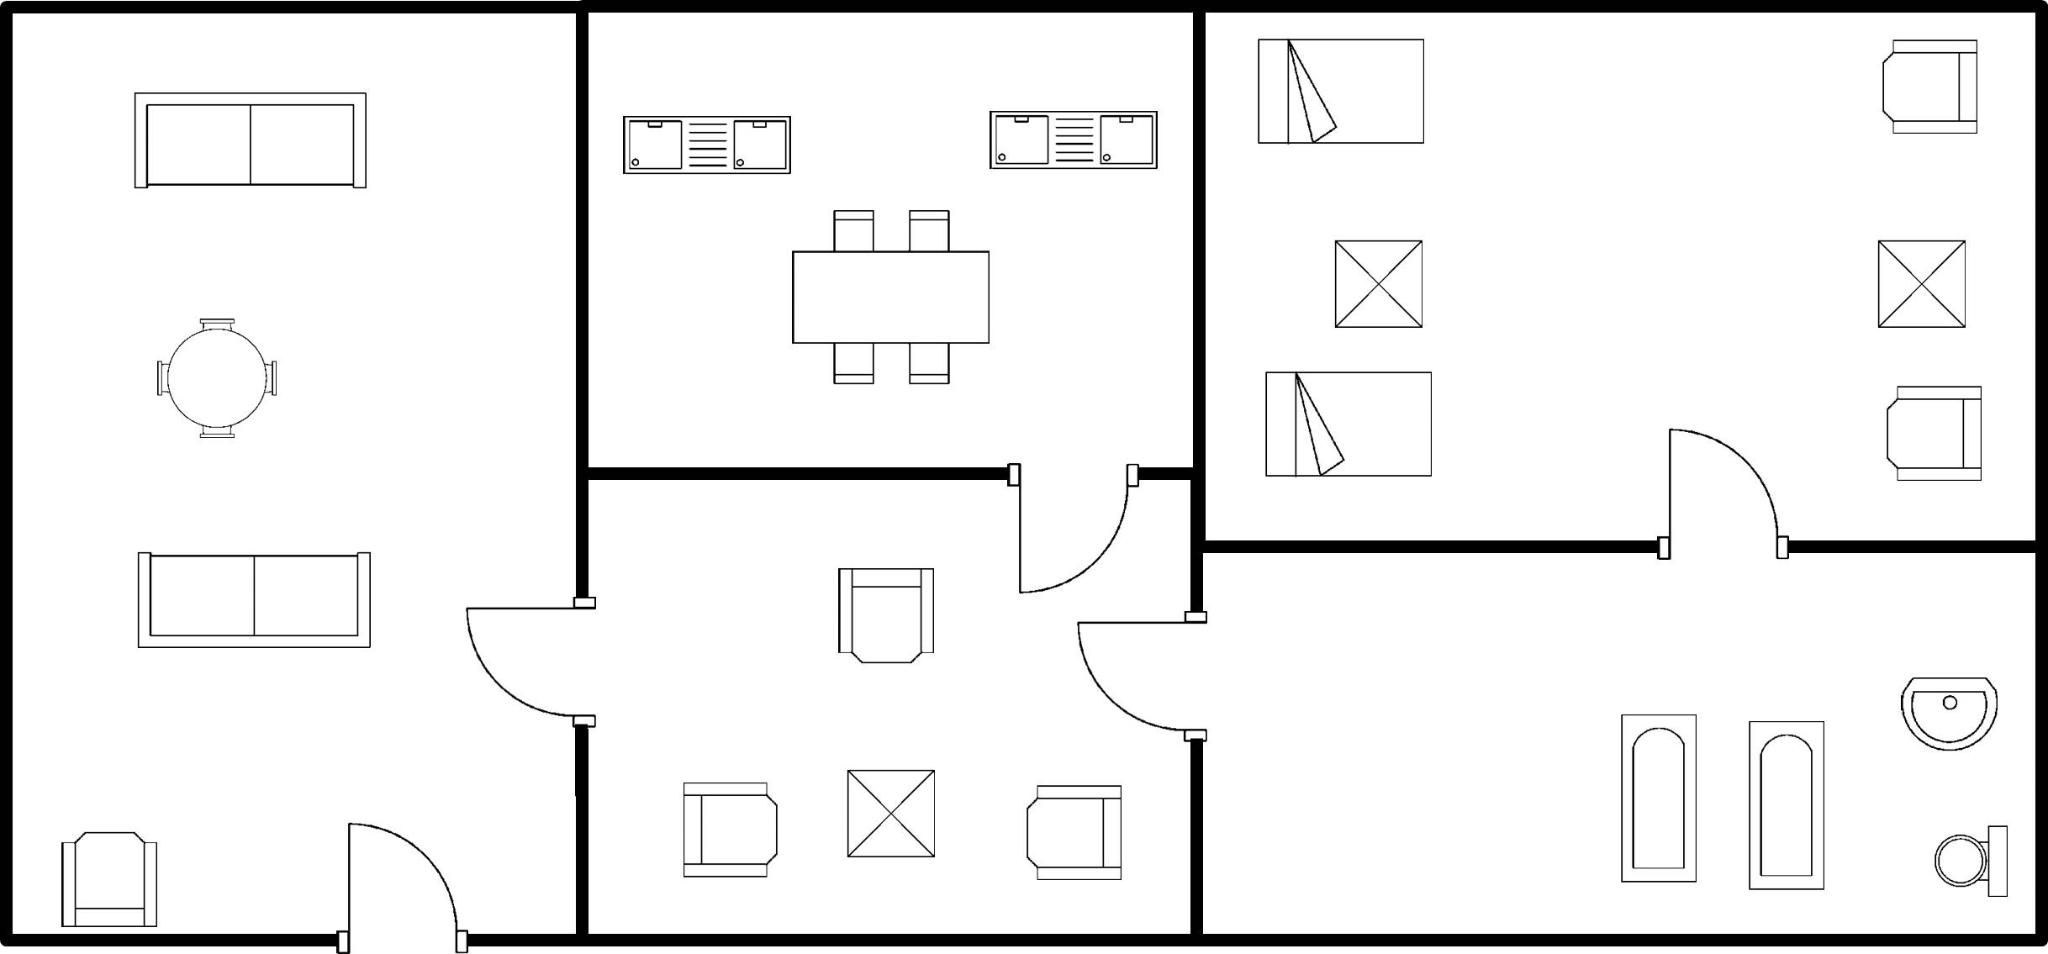sink: (977, 102, 1176, 180), (615, 102, 799, 186)
